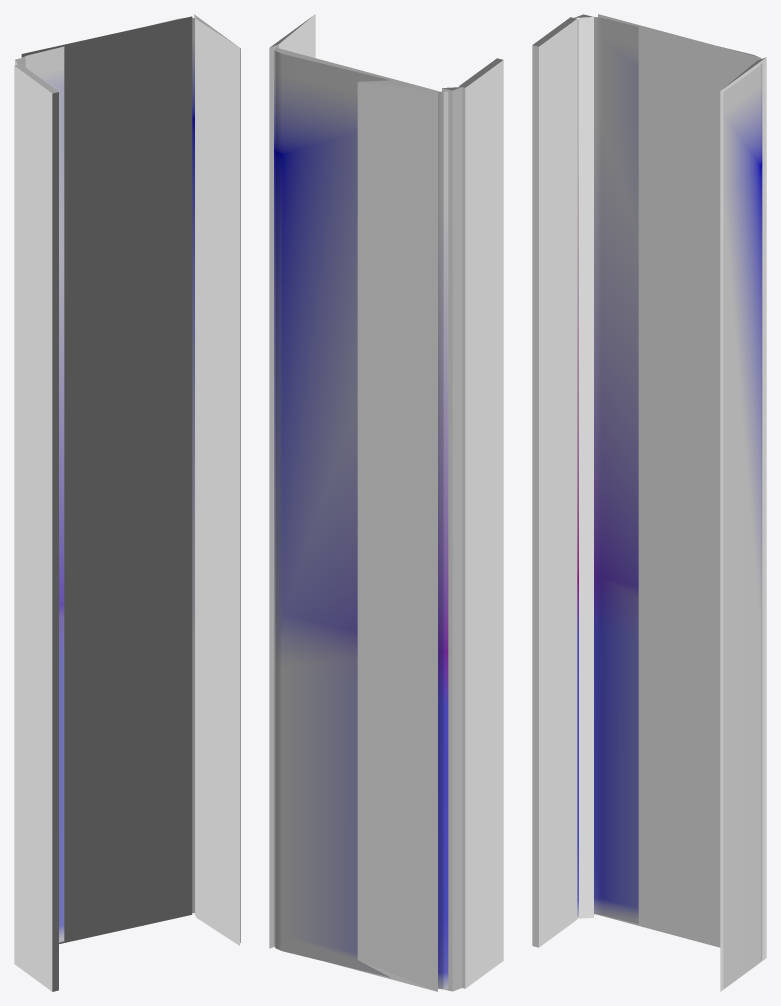
3 renders of one model, left to right at view 1: azimuth 30°, elevation 25°; view 2: azimuth 150°, elevation 25°; view 3: azimuth 330°, elevation 25°, orthographic.
Visible parts, largest first — view 1: SM_Bathroom_Wall_03_ConvexHulls, SM_Bathroom_Wall_03_LOD0; view 2: SM_Bathroom_Wall_03_ConvexHulls, SM_Bathroom_Wall_03_LOD0; view 3: SM_Bathroom_Wall_03_ConvexHulls, SM_Bathroom_Wall_03_LOD0.
Part boxes in pixels (left/top/right/bottom): SM_Bathroom_Wall_03_ConvexHulls: left=14, top=14, right=239, bottom=991; SM_Bathroom_Wall_03_LOD0: left=22, top=17, right=240, bottom=942; SM_Bathroom_Wall_03_ConvexHulls: left=269, top=14, right=503, bottom=991; SM_Bathroom_Wall_03_LOD0: left=274, top=48, right=448, bottom=989; SM_Bathroom_Wall_03_ConvexHulls: left=532, top=14, right=766, bottom=991; SM_Bathroom_Wall_03_LOD0: left=577, top=17, right=762, bottom=989.
Bounding box in the file's own units: 77.47 × 34.15 × 351.
